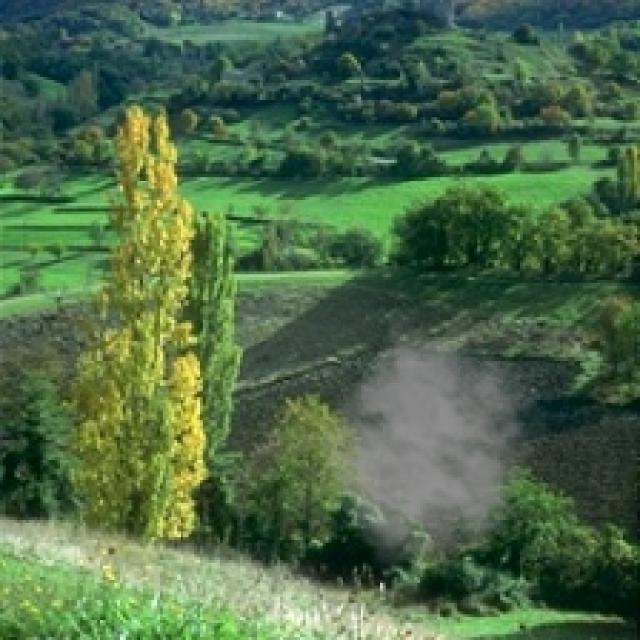smoke: (320, 312, 551, 568)
